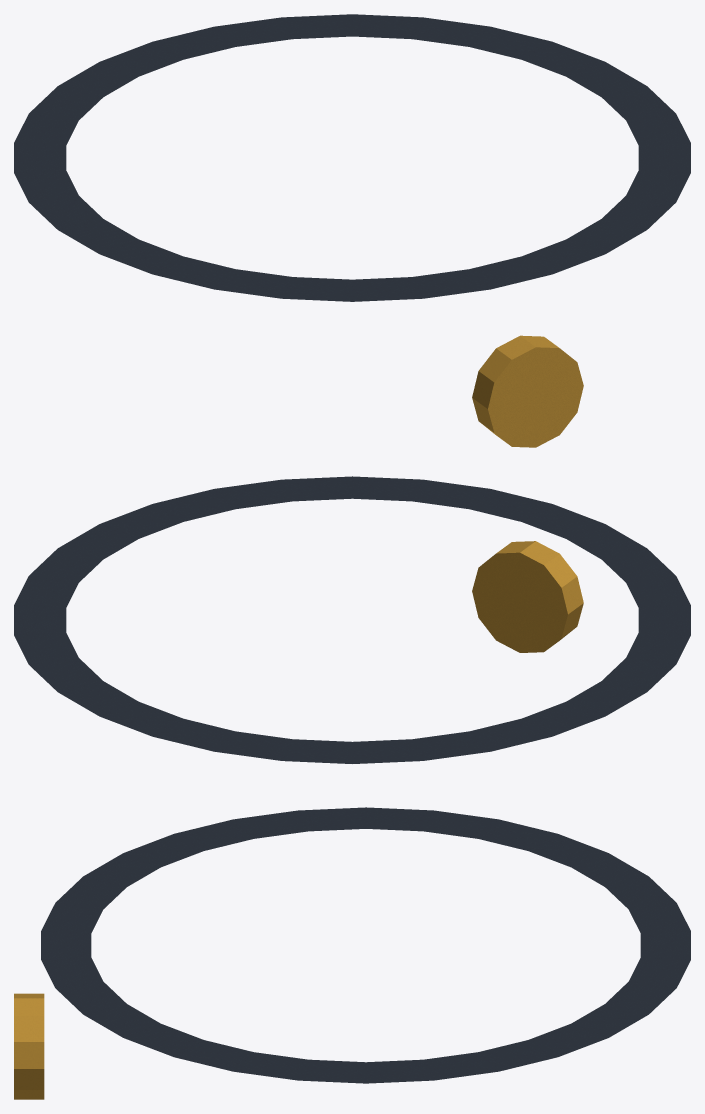
The model's file is reference_choker.gltf.
3 renders of one model, top to bottom at view 1: azimuth 30°, elevation 25°; view 2: azimuth 150°, elevation 25°; view 3: azimuth 270°, elevation 25°, orthographic. The views are drawn at different scales.
Visible parts, largest first — view 1: Choker; view 2: Choker; view 3: Choker.
Boxes of the visible parts, x1,y1,x2,y2 form: Choker: [14, 14, 690, 447]; Choker: [14, 476, 690, 763]; Choker: [14, 807, 690, 1099].
Bounding box in the file's own units: 0.258 × 0.065 × 0.2673.
2 materials, 2 textured.
